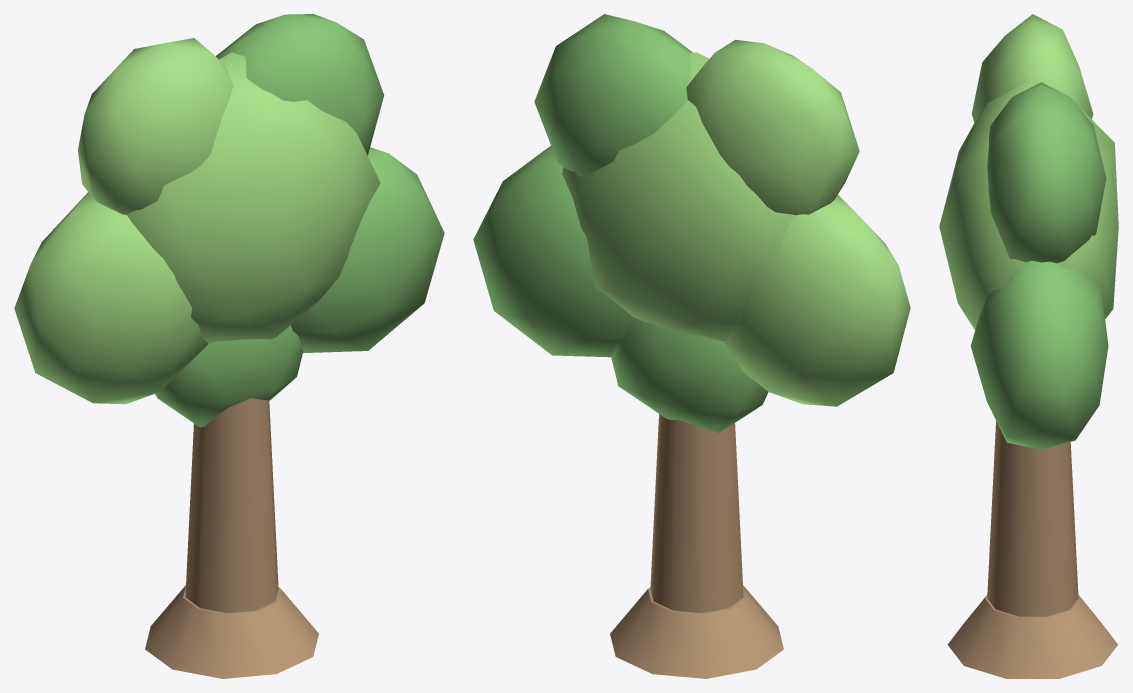
File: custom_object_tree.fbx
The picture shows the model from 3 angles, left to right: view 1: azimuth 30°, elevation 25°; view 2: azimuth 150°, elevation 25°; view 3: azimuth 270°, elevation 25°; orthographic projection. The views are drawn at different scales.
Visible parts, largest first — view 1: custom_object_tree; view 2: custom_object_tree; view 3: custom_object_tree.
Boxes of the visible parts, <box> form: custom_object_tree: <box>14,14,444,678</box>; custom_object_tree: <box>473,14,910,678</box>; custom_object_tree: <box>939,14,1118,678</box>.
Size of the model in its own units: 10.53 by 14.94 by 4.12.
